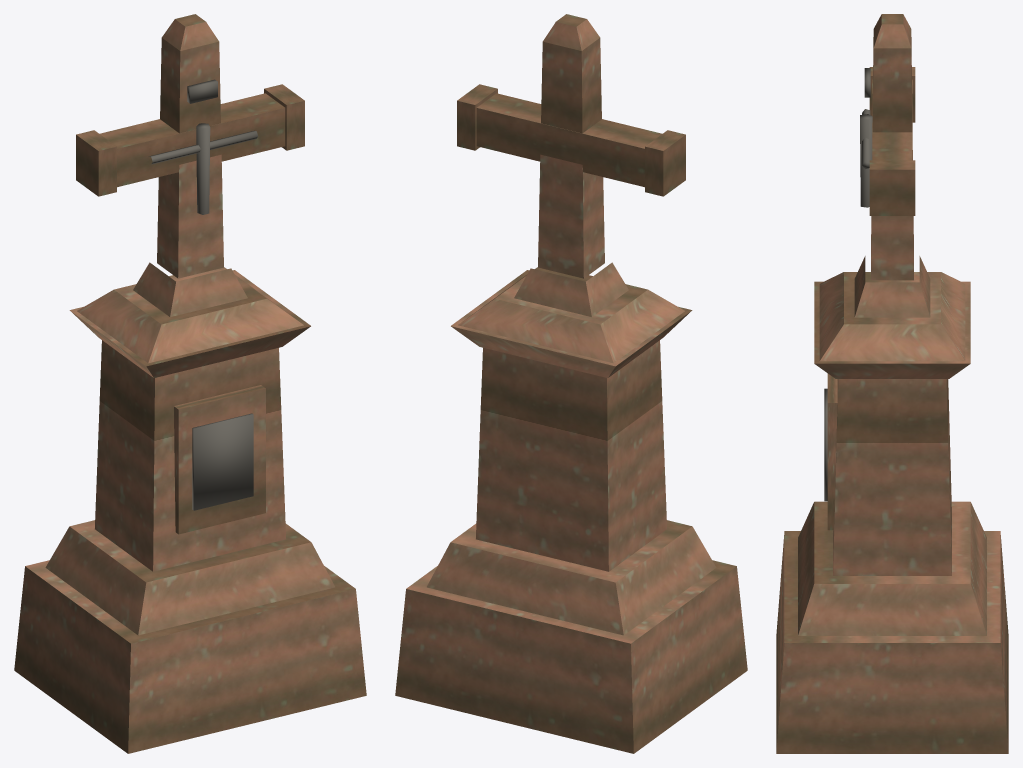
The model's file is wegekreuz.glb.
3 renders of one model, left to right at view 1: azimuth 30°, elevation 25°; view 2: azimuth 150°, elevation 25°; view 3: azimuth 270°, elevation 25°, orthographic.
Parts seen in each view (by area): view 1: Wegekreuz_Sandstone, Wegekreuz_Bronze; view 2: Wegekreuz_Sandstone; view 3: Wegekreuz_Sandstone, Wegekreuz_Bronze.
Part boxes in pixels (box(x1,y1,x2,y2)): Wegekreuz_Sandstone: box(14, 14, 366, 753); Wegekreuz_Bronze: box(149, 79, 257, 510); Wegekreuz_Sandstone: box(395, 14, 747, 753); Wegekreuz_Sandstone: box(776, 14, 1008, 753); Wegekreuz_Bronze: box(824, 68, 872, 501).
Size of the model in its own units: 1.04 by 2.76 by 0.86.
2 materials, 1 textured.
